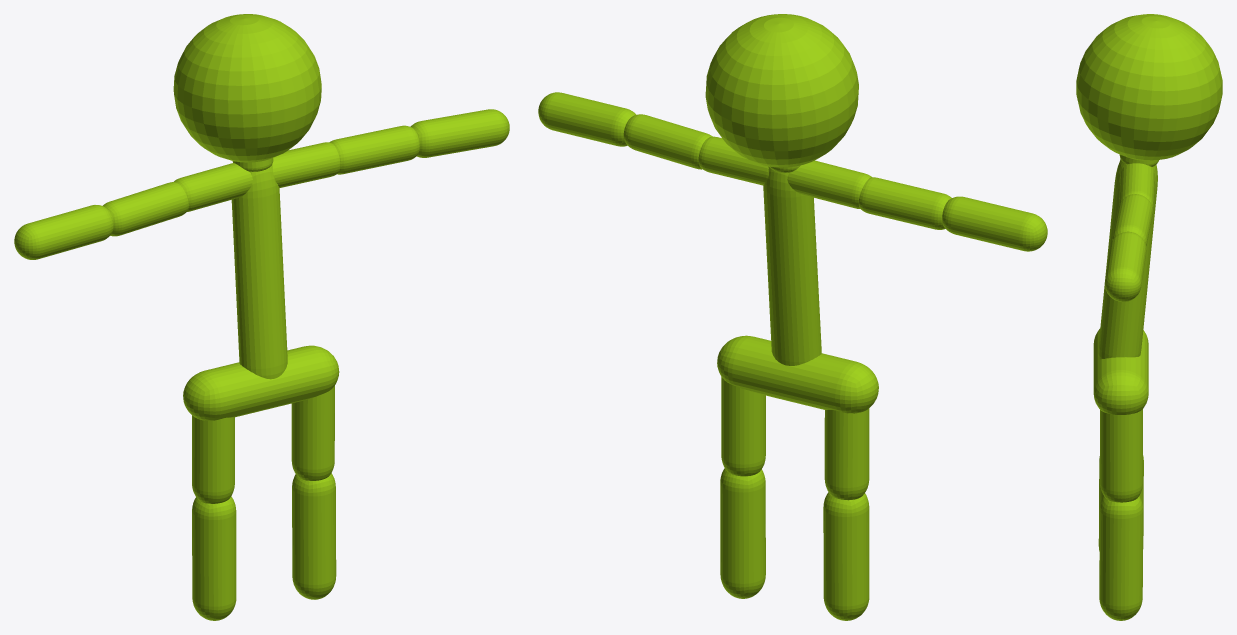
Rendered from Stickman_000001.obj.
3 renders of one model, left to right at view 1: azimuth 30°, elevation 25°; view 2: azimuth 150°, elevation 25°; view 3: azimuth 270°, elevation 25°, orthographic. The views are drawn at different scales.
Visible parts, largest first — view 1: Head_Sphere.001, Body_Roundcube.002, Hip_Roundcube.005, LowerLegRight_Roundcube.011, LowerLegLeft_Roundcube.013, LowerArmRight_Roundcube.016, UpperLegLeft_Roundcube.012, UpperLegRight_Roundcube.010, LowerArmLeft_Roundcube.019, UpperArmLeft_Roundcube.018, UpperArmRight_Roundcube.015, ShoulderRight_Roundcube.014 (+1 smaller); view 2: Head_Sphere.001, Body_Roundcube.002, Hip_Roundcube.005, LowerLegRight_Roundcube.011, LowerLegLeft_Roundcube.013, LowerArmRight_Roundcube.016, UpperLegRight_Roundcube.010, UpperLegLeft_Roundcube.012, LowerArmLeft_Roundcube.019, UpperArmRight_Roundcube.015, UpperArmLeft_Roundcube.018, ShoulderRight_Roundcube.014 (+1 smaller); view 3: Head_Sphere.001, LowerLegLeft_Roundcube.013, Body_Roundcube.002, UpperLegLeft_Roundcube.012, Hip_Roundcube.005, LowerArmLeft_Roundcube.019, UpperArmLeft_Roundcube.018, ShoulderLeft_Roundcube.017, LowerLegRight_Roundcube.011.
Part boxes in pixels (x1=…): Head_Sphere.001: x1=173, y1=14, x2=321, y2=162; Body_Roundcube.002: x1=231, y1=165, x2=287, y2=379; Hip_Roundcube.005: x1=183, y1=345, x2=339, y2=420; LowerLegRight_Roundcube.011: x1=192, y1=496, x2=236, y2=620; LowerLegLeft_Roundcube.013: x1=292, y1=473, x2=336, y2=599; LowerArmRight_Roundcube.016: x1=14, y1=205, x2=113, y2=259; UpperLegLeft_Roundcube.012: x1=291, y1=386, x2=334, y2=480; UpperLegRight_Roundcube.010: x1=192, y1=415, x2=234, y2=503; LowerArmLeft_Roundcube.019: x1=410, y1=109, x2=509, y2=157; UpperArmLeft_Roundcube.018: x1=329, y1=125, x2=419, y2=174; UpperArmRight_Roundcube.015: x1=103, y1=182, x2=188, y2=236; ShoulderRight_Roundcube.014: x1=174, y1=163, x2=252, y2=211; Head_Sphere.001: x1=705, y1=14, x2=858, y2=167; Body_Roundcube.002: x1=763, y1=166, x2=821, y2=365; Hip_Roundcube.005: x1=717, y1=335, x2=878, y2=413; LowerLegRight_Roundcube.011: x1=823, y1=492, x2=869, y2=620; LowerLegLeft_Roundcube.013: x1=720, y1=468, x2=765, y2=598; LowerArmRight_Roundcube.016: x1=942, y1=196, x2=1047, y2=251; UpperLegRight_Roundcube.010: x1=824, y1=408, x2=869, y2=500; UpperLegLeft_Roundcube.012: x1=721, y1=377, x2=765, y2=476; LowerArmLeft_Roundcube.019: x1=538, y1=92, x2=636, y2=146; UpperArmRight_Roundcube.015: x1=858, y1=177, x2=951, y2=229; UpperArmLeft_Roundcube.018: x1=623, y1=114, x2=712, y2=169; ShoulderRight_Roundcube.014: x1=787, y1=160, x2=871, y2=208; Head_Sphere.001: x1=1076, y1=14, x2=1222, y2=160; LowerLegLeft_Roundcube.013: x1=1099, y1=496, x2=1143, y2=620; Body_Roundcube.002: x1=1098, y1=159, x2=1157, y2=359; UpperLegLeft_Roundcube.012: x1=1100, y1=409, x2=1142, y2=502; Hip_Roundcube.005: x1=1093, y1=328, x2=1148, y2=414; LowerArmLeft_Roundcube.019: x1=1104, y1=231, x2=1146, y2=301; UpperArmLeft_Roundcube.018: x1=1112, y1=194, x2=1152, y2=245; ShoulderLeft_Roundcube.017: x1=1119, y1=163, x2=1154, y2=209; LowerLegRight_Roundcube.011: x1=1098, y1=455, x2=1143, y2=551.
Size of the model in its own units: 9.11 by 10.32 by 2.39.
